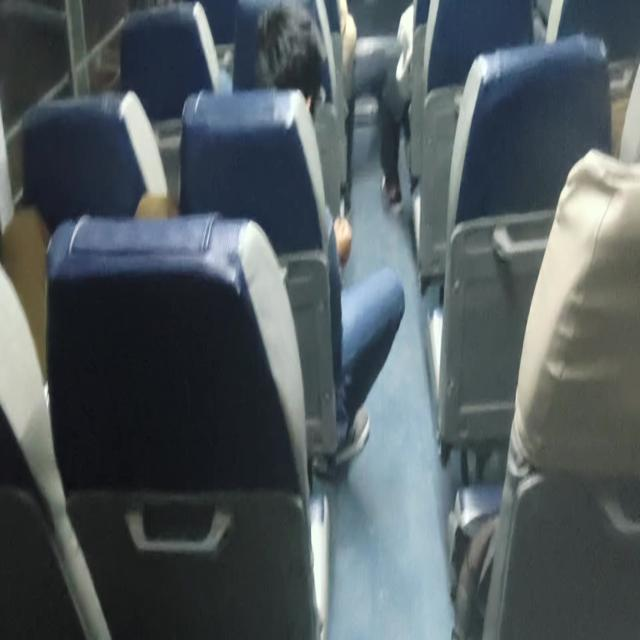person: (251, 2, 325, 130)
